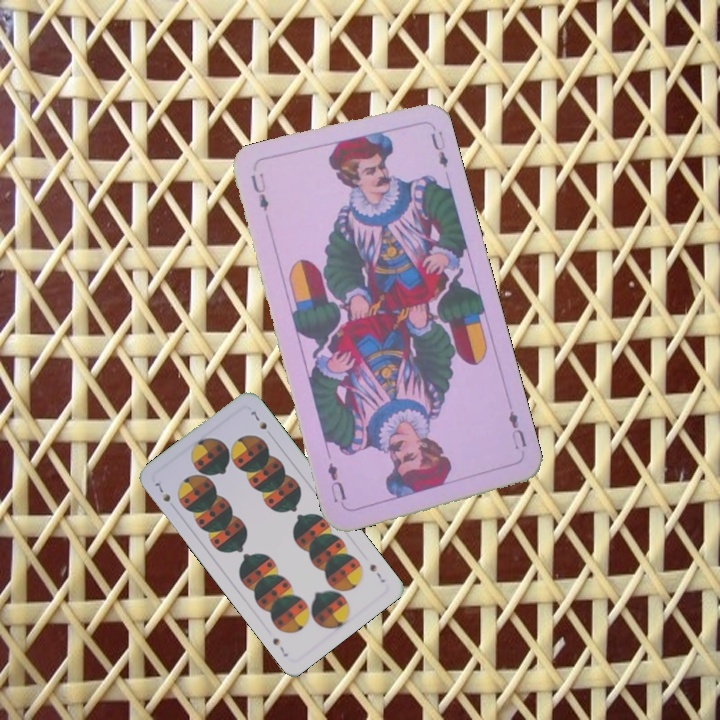EU: (246, 169, 272, 214), (504, 406, 529, 452)
S7: (150, 478, 173, 504), (366, 560, 388, 585)
